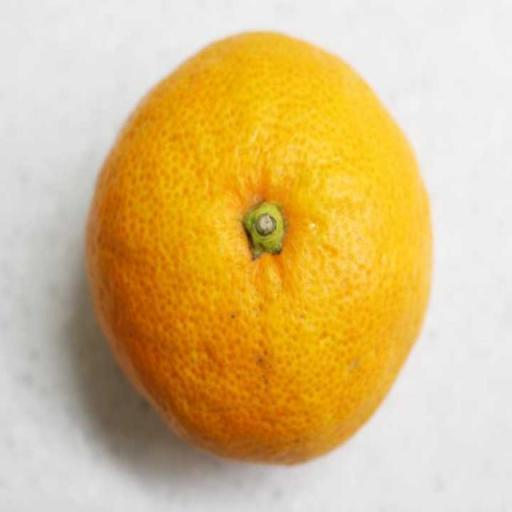fruit: (86, 32, 429, 461)
